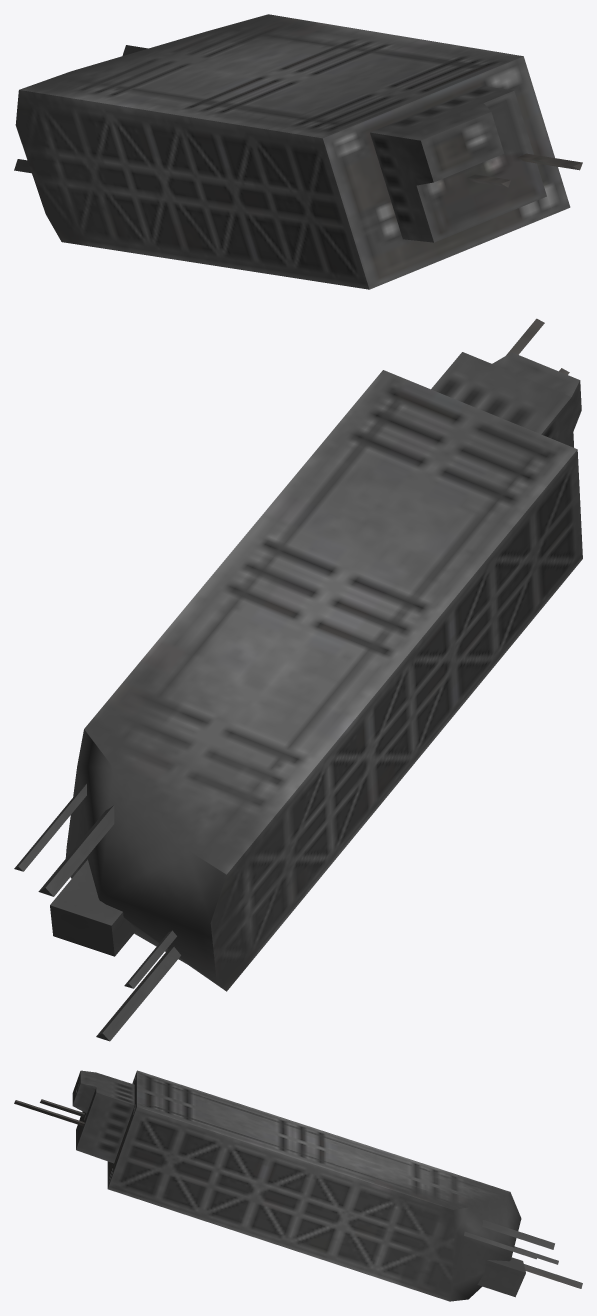
The model's file is skyBuildingAAA_pos_grp (3).fbx.
3 views of the same model, one above another, from view 1: azimuth 30°, elevation 25°; view 2: azimuth 150°, elevation 25°; view 3: azimuth 270°, elevation 25° (orthographic). The views are drawn at different scales.
Parts seen in each view (by area): view 1: skyBuildingAAA_geo; view 2: skyBuildingAAA_geo; view 3: skyBuildingAAA_geo.
Part boxes in pixels (box(x1,y1,x2,y2)): skyBuildingAAA_geo: box(14, 14, 582, 289); skyBuildingAAA_geo: box(14, 318, 582, 1041); skyBuildingAAA_geo: box(14, 1070, 582, 1301).
Bounding box in the file's own units: 3.1 × 4.5 × 10.89.
